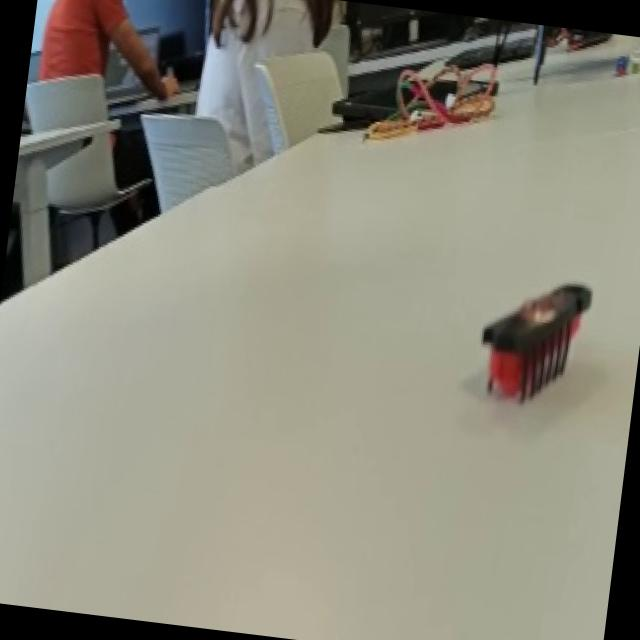2_NanoBug_Negro: (434, 234, 618, 451)
